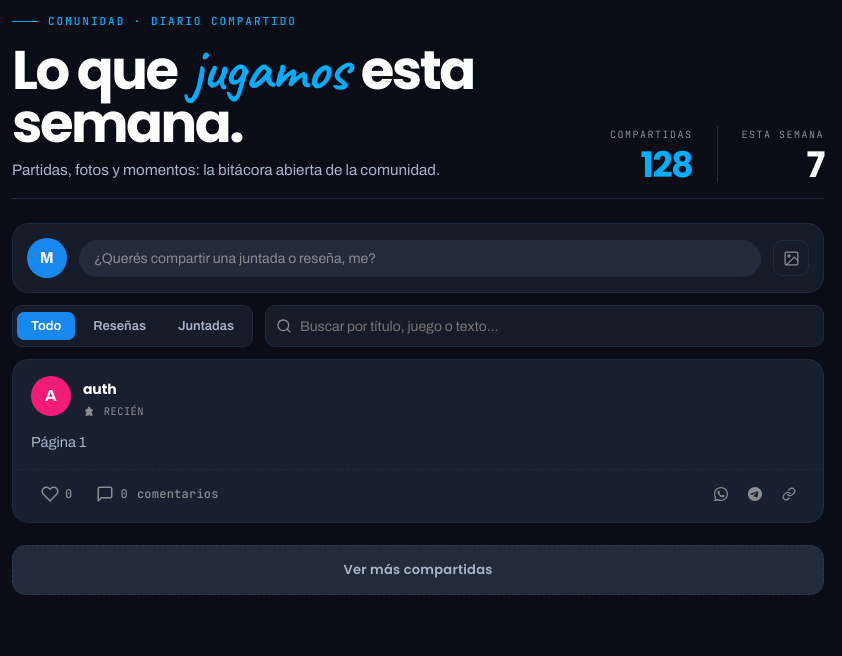
Scenario: <Compartidas> › "Ver más compartidas" loads the next page and appends
Expected: the text "Página 1" is shown, x1=31 y1=434 x2=86 y2=450
What coordinates should you click on to do the following:
click the button "Ver más compartidas"
I would click on:
 (418, 570)
Its box is x1=12 y1=545 x2=824 y2=595.
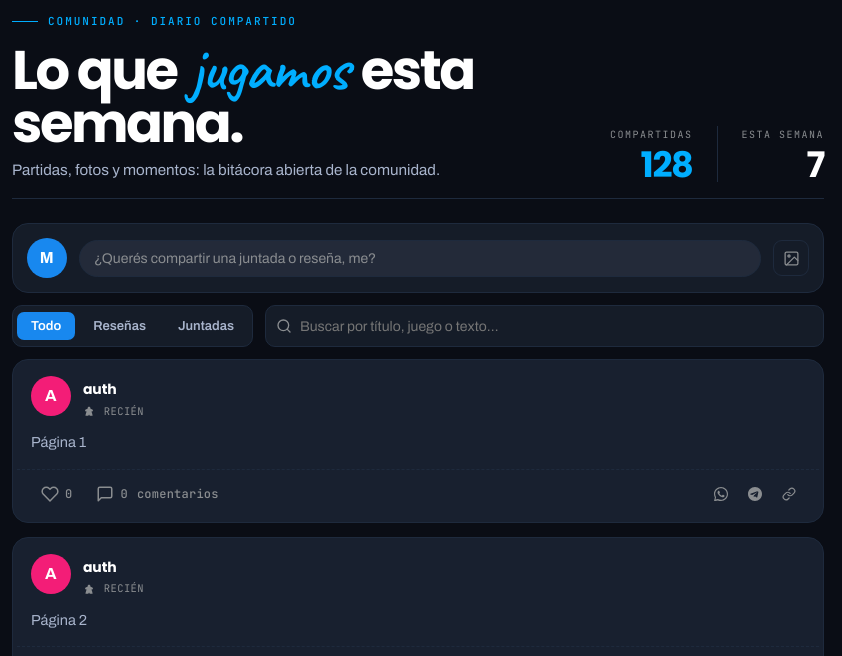
Expected: the text "Página 1" is shown, x1=31 y1=434 x2=86 y2=450
Expected: the text "Página 2" is shown, x1=31 y1=612 x2=87 y2=628
